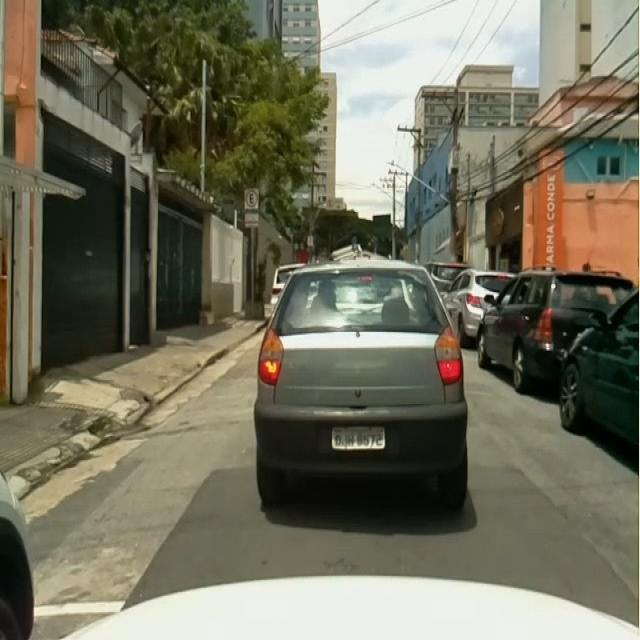car: (256, 260, 468, 509), (478, 271, 634, 391), (559, 292, 639, 443), (444, 269, 514, 346)
